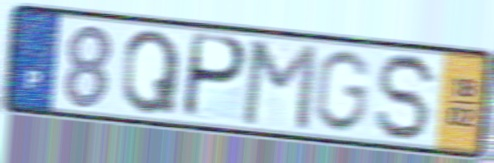8: (63, 21, 116, 111)
G: (310, 47, 374, 136)
M: (238, 37, 320, 134)
P: (179, 31, 250, 123)
Q: (120, 27, 183, 117)
S: (374, 51, 442, 143)
